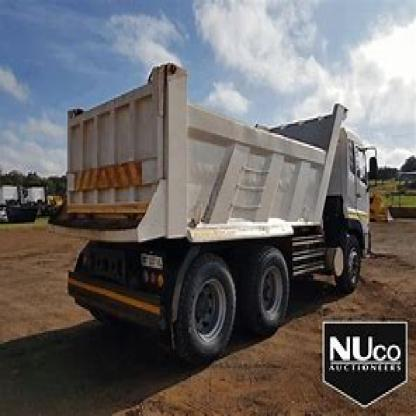dump_truck: (61, 41, 385, 362)
